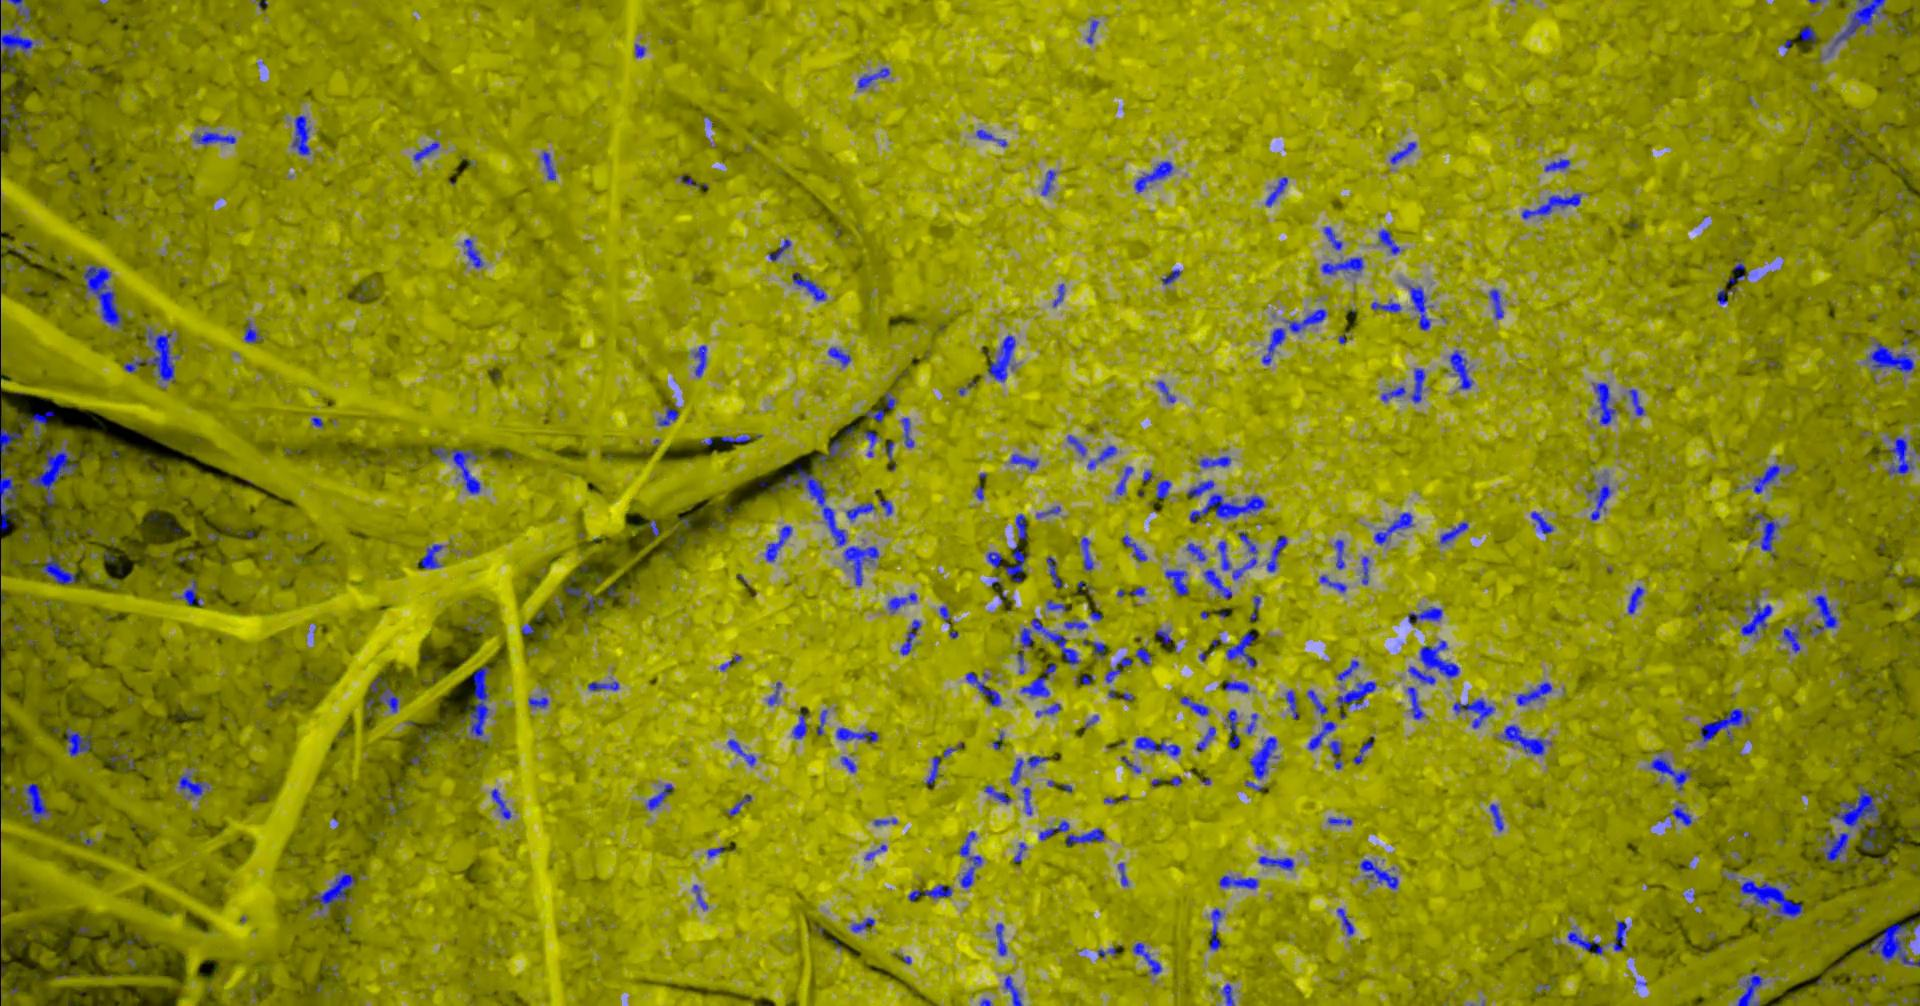ant: (780, 464, 848, 545), (1018, 617, 1079, 673), (1830, 0, 1887, 53), (124, 329, 180, 381), (84, 265, 124, 326), (1741, 879, 1804, 917), (1, 426, 24, 530), (433, 447, 483, 493), (1835, 784, 1884, 829), (1191, 493, 1267, 522), (1870, 922, 1920, 967), (461, 666, 491, 735), (1702, 708, 1751, 741), (1040, 821, 1106, 845), (312, 873, 356, 909), (1523, 193, 1583, 218), (1651, 752, 1691, 790), (1868, 340, 1916, 372), (1503, 724, 1553, 754), (1421, 640, 1462, 677), (844, 546, 880, 586), (960, 829, 984, 887), (1250, 735, 1280, 779), (989, 334, 1017, 381), (18, 782, 50, 823), (1375, 512, 1415, 544), (1233, 531, 1258, 579), (1454, 699, 1496, 728), (968, 671, 1002, 706), (1750, 513, 1782, 551), (1, 22, 34, 57), (1022, 663, 1058, 696), (1137, 161, 1175, 192), (1361, 859, 1399, 889), (1011, 754, 1049, 784), (1408, 285, 1432, 330), (1742, 600, 1773, 635), (41, 555, 77, 584), (1227, 633, 1257, 667), (792, 271, 828, 300), (371, 677, 400, 713), (1812, 594, 1839, 633), (1338, 681, 1377, 708), (766, 525, 792, 561), (1288, 307, 1328, 332), (1004, 542, 1030, 580), (1594, 382, 1617, 424), (1570, 926, 1604, 954), (1137, 735, 1182, 756), (1134, 942, 1163, 974), (1263, 326, 1288, 365), (1890, 436, 1914, 474), (1451, 349, 1474, 389), (1589, 483, 1613, 520), (1738, 970, 1764, 1005), (1517, 681, 1553, 705), (1823, 829, 1850, 861), (28, 410, 56, 439), (1205, 569, 1233, 598), (1309, 721, 1337, 749), (648, 782, 676, 810), (1755, 464, 1782, 493), (1322, 257, 1365, 274), (728, 739, 757, 765), (1269, 536, 1289, 572), (902, 619, 922, 654), (858, 67, 891, 89), (67, 727, 91, 756), (910, 884, 952, 901), (491, 788, 513, 819), (293, 116, 311, 154), (1123, 535, 1148, 561), (1107, 655, 1133, 682), (1090, 445, 1117, 469), (180, 774, 210, 796), (419, 542, 444, 568), (180, 578, 204, 605), (1390, 141, 1418, 164), (1267, 177, 1289, 206), (1166, 569, 1190, 594), (1441, 521, 1469, 542), (465, 238, 485, 267), (889, 592, 918, 612), (1410, 606, 1443, 624), (1408, 686, 1426, 719), (838, 727, 880, 741), (1210, 908, 1224, 950), (820, 439, 843, 465), (847, 502, 877, 521), (1308, 688, 1330, 715), (1228, 709, 1242, 748), (1048, 556, 1065, 587), (985, 784, 1012, 804), (196, 131, 237, 144), (1182, 696, 1210, 715), (978, 130, 1010, 146), (770, 238, 792, 260), (1531, 511, 1554, 533), (729, 794, 753, 815), (1006, 976, 1023, 1005), (415, 141, 441, 161), (1380, 229, 1401, 254), (1258, 856, 1295, 870), (1614, 920, 1630, 950), (1117, 466, 1135, 494), (1410, 666, 1437, 683), (9, 0, 32, 22), (1863, 827, 1883, 851), (792, 706, 808, 738), (1220, 875, 1258, 888), (829, 345, 852, 366), (1354, 741, 1374, 763), (1412, 368, 1426, 401), (1189, 480, 1217, 497), (1321, 575, 1349, 592), (927, 756, 943, 784), (1338, 907, 1355, 935), (1197, 727, 1217, 751), (1784, 626, 1802, 652), (1011, 453, 1040, 469), (695, 345, 709, 377), (659, 405, 681, 426), (1671, 805, 1693, 826), (1324, 226, 1343, 249), (1491, 288, 1505, 319), (1629, 586, 1644, 614), (1082, 537, 1095, 570), (1158, 380, 1177, 401), (1338, 661, 1360, 680), (1084, 639, 1107, 657), (1, 762, 9, 815), (543, 151, 557, 179), (1630, 387, 1644, 415), (1330, 741, 1343, 768), (1382, 386, 1407, 401), (903, 417, 916, 447), (1068, 434, 1087, 455), (1801, 25, 1818, 47), (1491, 803, 1505, 829), (1373, 300, 1402, 312), (1219, 541, 1232, 570), (1288, 690, 1300, 719), (852, 917, 876, 932), (1200, 456, 1232, 467), (1189, 542, 1208, 561), (997, 923, 1008, 955), (584, 596, 604, 614), (866, 843, 888, 860), (1545, 158, 1571, 171), (1043, 170, 1057, 196), (695, 884, 709, 909), (245, 323, 263, 342), (770, 681, 783, 705), (1037, 702, 1062, 716), (1718, 287, 1738, 304), (866, 431, 879, 456), (1137, 647, 1153, 666), (1123, 756, 1142, 772), (1163, 269, 1183, 285), (1336, 539, 1346, 569), (1225, 680, 1250, 692), (682, 175, 709, 187), (1017, 513, 1029, 539), (1251, 594, 1262, 620), (1117, 586, 1145, 596), (1015, 842, 1029, 862), (1088, 19, 1100, 43), (1037, 506, 1062, 517), (1223, 983, 1236, 1005), (1157, 480, 1172, 498), (589, 681, 620, 690), (818, 709, 828, 735), (1054, 283, 1065, 306), (723, 433, 752, 442), (988, 551, 1003, 568), (1157, 629, 1173, 644), (842, 756, 857, 772), (1363, 556, 1371, 584), (1023, 788, 1032, 814), (530, 696, 550, 708), (1119, 862, 1129, 885), (885, 391, 898, 409), (867, 408, 885, 420), (1248, 713, 1258, 734), (1048, 600, 1067, 611), (709, 846, 728, 857), (1065, 620, 1090, 629), (941, 606, 952, 624), (1330, 817, 1352, 826), (568, 586, 587, 596), (881, 500, 894, 514), (875, 818, 898, 826), (636, 43, 646, 57)
